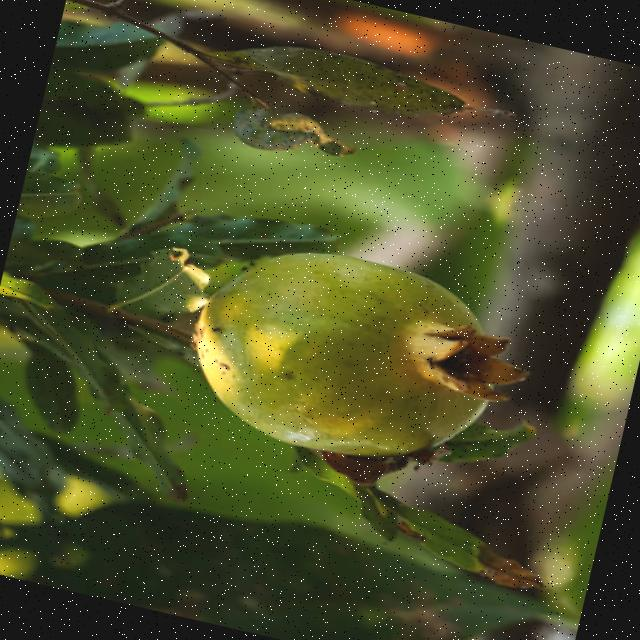Unripe: (169, 224, 544, 491)
